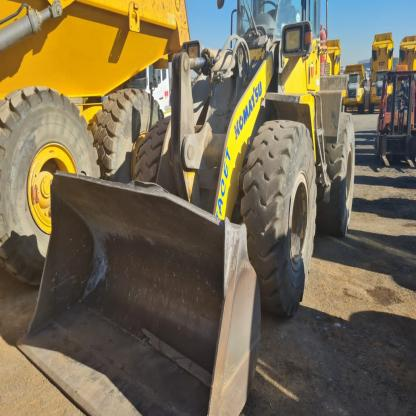bull_dozer/loader/grader: (31, 0, 371, 416)
